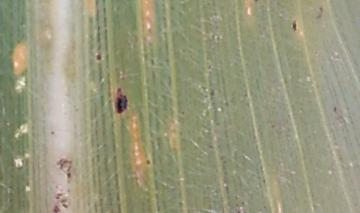tarspot: (113, 86, 129, 115), (55, 157, 74, 179), (315, 4, 324, 22), (291, 18, 298, 33), (94, 52, 103, 62), (54, 191, 63, 201), (331, 104, 339, 115), (51, 204, 60, 213), (60, 202, 70, 210), (208, 86, 215, 97), (205, 63, 212, 72), (144, 158, 151, 166), (49, 129, 56, 137), (252, 1, 259, 3)
